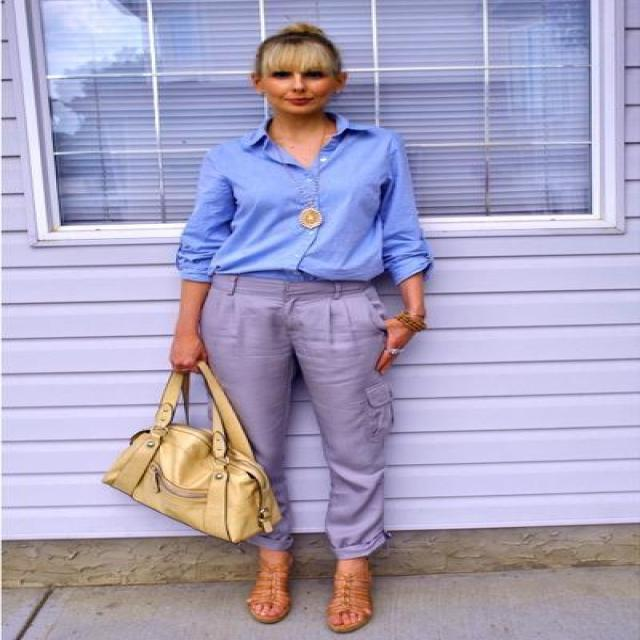bag: (102, 372, 280, 541)
pants: (202, 276, 416, 550)
shirt: (167, 109, 430, 293)
shoe: (248, 550, 371, 632)
